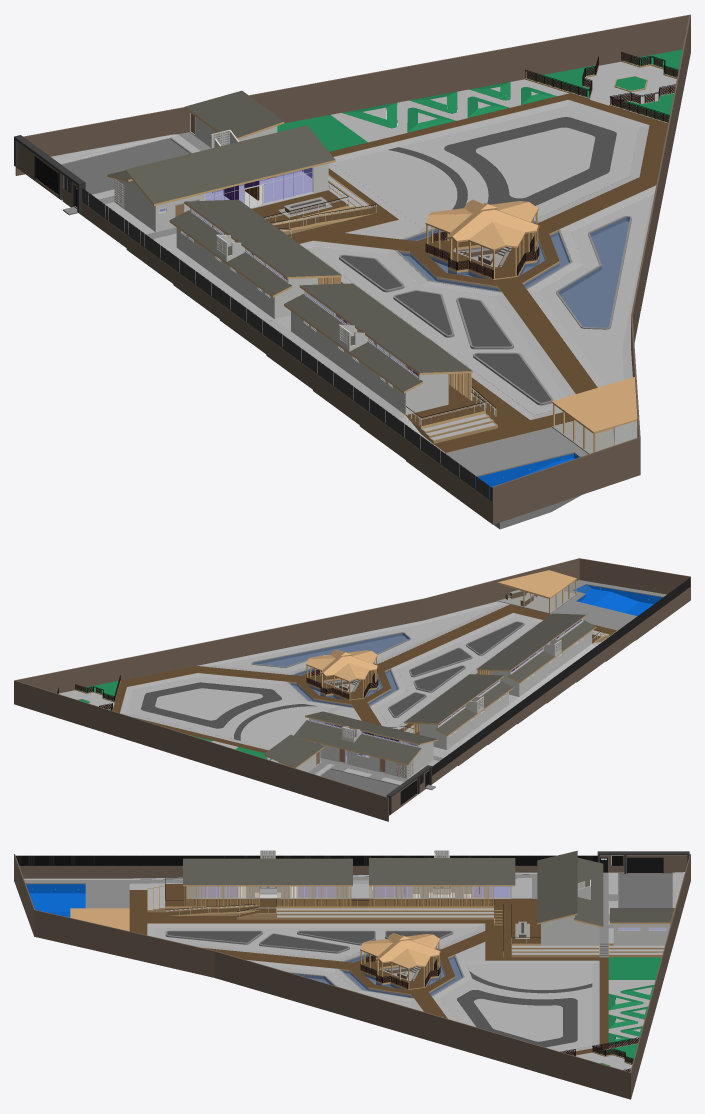
Rendered from YAUTLI DWELLING_GENERAL col.glb.
3 renders of one model, top to bottom at view 1: azimuth 30°, elevation 25°; view 2: azimuth 150°, elevation 25°; view 3: azimuth 270°, elevation 25°, orthographic. The views are drawn at different scales.
Parts seen in each view (by area): view 1: Wall Walls <1677732 Muro Perimetral - Muro de Piedra - 150 m, Floor Floors <1831915 Grava<, Floor Floors <1814637 Wood Joist 235mm - Wood Finish<, FootPrintRoof Roofs <1737967 Wood Rafter 184mm - Asphalt Shi, Floor Floors <1828000 Grava<, Floor Floors <1832089 Pasto<, Floor Floors <1832616 Grava<, Wall Walls <1677735 Muro Perimetral - Muro de Piedra - 150 m, Floor Floors <2404943 Grava Gris oscuro<, FootPrintRoof Roofs <1770674 Wood Rafter 184mm - Asphalt Shi, Floor Floors <2369795 Grava Gris oscuro<, Floor Floors <1831774 Grava< (+31 smaller); view 2: Wall Walls <1677732 Muro Perimetral - Muro de Piedra - 150 m, Wall Walls <1677733 Muro Perimetral - Muro de Piedra - 150 m, Floor Floors <1831915 Grava<, Floor Floors <1814637 Wood Joist 235mm - Wood Finish<, Floor Floors <1828000 Grava<, Wall Walls <1677734 Muro Perimetral - Muro de Piedra - 150 m, Floor Floors <2404943 Grava Gris oscuro<, Floor Floors <1832616 Grava<, Wall Walls <1677735 Muro Perimetral - Muro de Piedra - 150 m, FootPrintRoof Roofs <1737976 Wood Rafter 184mm - Asphalt Shi, FootPrintRoof Roofs <1770674 Wood Rafter 184mm - Asphalt Shi, Floor Floors <2369795 Grava Gris oscuro< (+31 smaller); view 3: Wall Walls <1677733 Muro Perimetral - Muro de Piedra - 150 m, Floor Floors <1814637 Wood Joist 235mm - Wood Finish<, Floor Floors <1831915 Grava<, Wall Walls <1677734 Muro Perimetral - Muro de Piedra - 150 m, FootPrintRoof Roofs <1770674 Wood Rafter 184mm - Asphalt Shi, Floor Floors <1761425 Wood Joist 235mm - Wood Finish<, FootPrintRoof Roofs <1755882 Wood Rafter 184mm - Asphalt Shi, Floor Floors <1828000 Grava<, Floor Floors <2404943 Grava Gris oscuro<, Floor Floors <1832089 Pasto<, FootPrintRoof Roofs <1737967 Wood Rafter 184mm - Asphalt Shi, Floor Floors <1827383 Grava< (+40 smaller).
Part boxes in pixels (x1=…): Wall Walls <1677732 Muro Perimetral - Muro de Piedra - 150 m: x1=15, y1=14, x2=690, y2=175; Floor Floors <1831915 Grava<: x1=333, y1=106, x2=638, y2=227; Floor Floors <1814637 Wood Joist 235mm - Wood Finish<: x1=287, y1=93, x2=667, y2=452; FootPrintRoof Roofs <1737967 Wood Rafter 184mm - Asphalt Shi: x1=125, y1=125, x2=335, y2=205; Floor Floors <1828000 Grava<: x1=306, y1=246, x2=565, y2=415; Floor Floors <1832089 Pasto<: x1=277, y1=49, x2=682, y2=151; Floor Floors <1832616 Grava<: x1=538, y1=195, x2=651, y2=384; Wall Walls <1677735 Muro Perimetral - Muro de Piedra - 150 m: x1=492, y1=437, x2=638, y2=524; Floor Floors <2404943 Grava Gris oscuro<: x1=388, y1=117, x2=616, y2=209; FootPrintRoof Roofs <1770674 Wood Rafter 184mm - Asphalt Shi: x1=299, y1=283, x2=472, y2=374; Floor Floors <2369795 Grava Gris oscuro<: x1=341, y1=255, x2=550, y2=402; Floor Floors <1831774 Grava<: x1=328, y1=100, x2=649, y2=239; Wall Walls <1677732 Muro Perimetral - Muro de Piedra - 150 m: x1=14, y1=680, x2=388, y2=821; Wall Walls <1677733 Muro Perimetral - Muro de Piedra - 150 m: x1=15, y1=598, x2=423, y2=693; Floor Floors <1831915 Grava<: x1=126, y1=676, x2=331, y2=748; Floor Floors <1814637 Wood Joist 235mm - Wood Finish<: x1=112, y1=604, x2=616, y2=753; Floor Floors <1828000 Grava<: x1=377, y1=617, x2=538, y2=728; Wall Walls <1677734 Muro Perimetral - Muro de Piedra - 150 m: x1=423, y1=558, x2=579, y2=620; Floor Floors <2404943 Grava Gris oscuro<: x1=141, y1=682, x2=317, y2=740; Floor Floors <1832616 Grava<: x1=216, y1=605, x2=498, y2=672; Wall Walls <1677735 Muro Perimetral - Muro de Piedra - 150 m: x1=579, y1=558, x2=690, y2=599; FootPrintRoof Roofs <1737976 Wood Rafter 184mm - Asphalt Shi: x1=294, y1=720, x2=421, y2=765; FootPrintRoof Roofs <1770674 Wood Rafter 184mm - Asphalt Shi: x1=476, y1=613, x2=586, y2=671; Floor Floors <2369795 Grava Gris oscuro<: x1=389, y1=622, x2=522, y2=716; Wall Walls <1677733 Muro Perimetral - Muro de Piedra - 150 m: x1=214, y1=951, x2=629, y2=1099; Floor Floors <1814637 Wood Joist 235mm - Wood Finish<: x1=129, y1=890, x2=608, y2=1055; Floor Floors <1831915 Grava<: x1=440, y1=964, x2=592, y2=1051; Wall Walls <1677734 Muro Perimetral - Muro de Piedra - 150 m: x1=34, y1=909, x2=214, y2=977; FootPrintRoof Roofs <1770674 Wood Rafter 184mm - Asphalt Shi: x1=183, y1=858, x2=352, y2=886; Floor Floors <1761425 Wood Joist 235mm - Wood Finish<: x1=165, y1=884, x2=540, y2=945; FootPrintRoof Roofs <1755882 Wood Rafter 184mm - Asphalt Shi: x1=369, y1=858, x2=515, y2=886; Floor Floors <1828000 Grava<: x1=154, y1=927, x2=477, y2=958; Floor Floors <2404943 Grava Gris oscuro<: x1=457, y1=971, x2=592, y2=1047; Floor Floors <1832089 Pasto<: x1=596, y1=957, x2=661, y2=1066; FootPrintRoof Roofs <1737967 Wood Rafter 184mm - Asphalt Shi: x1=537, y1=850, x2=577, y2=924; Floor Floors <1827383 Grava<: x1=147, y1=923, x2=485, y2=961.
Size of what is drawn, in the model's own units: 71.81 by 7.96 by 92.24.
